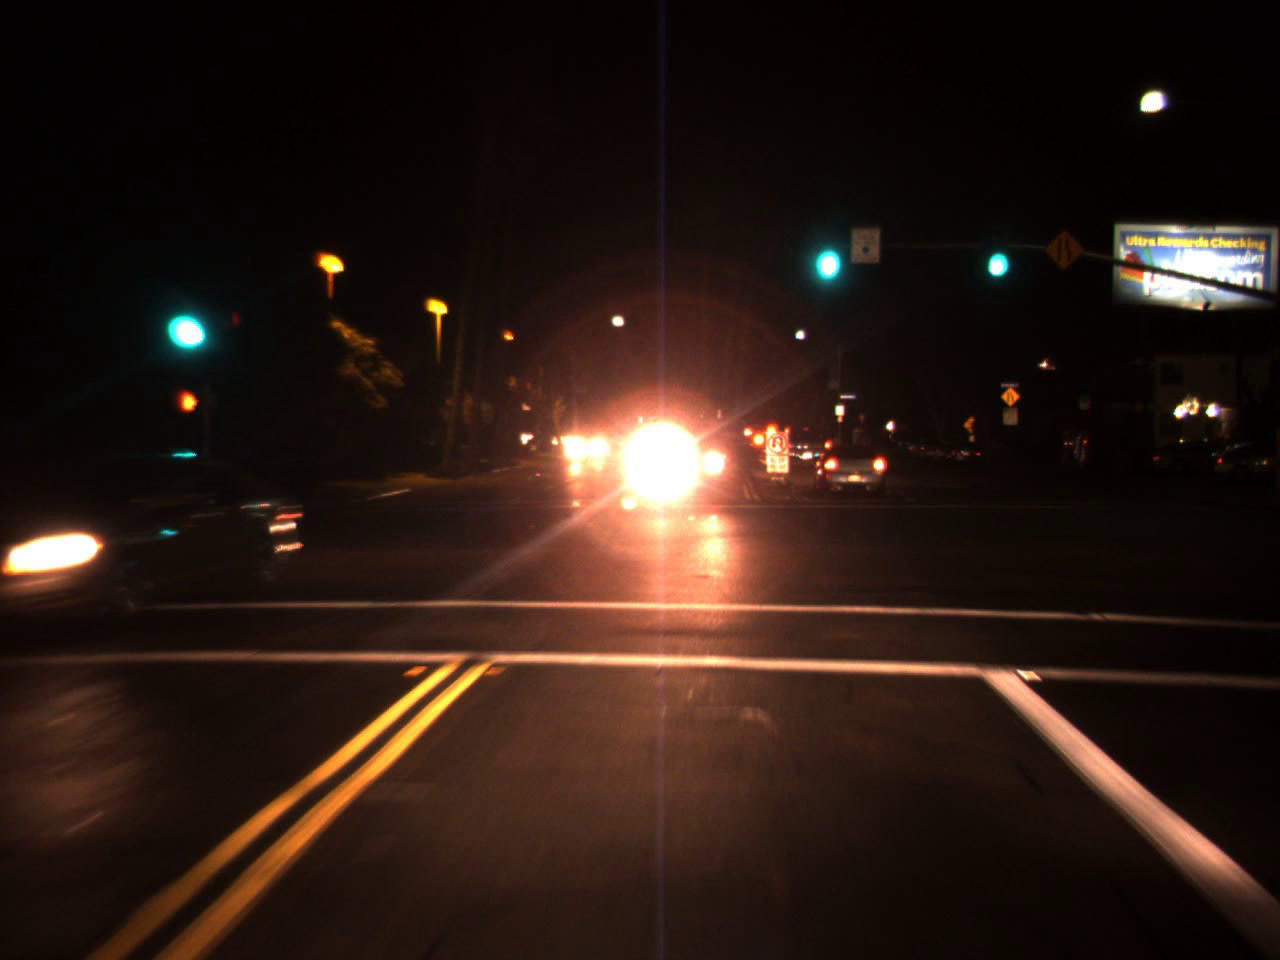go: (161, 278, 211, 359), (804, 209, 847, 293), (983, 231, 1011, 288)
